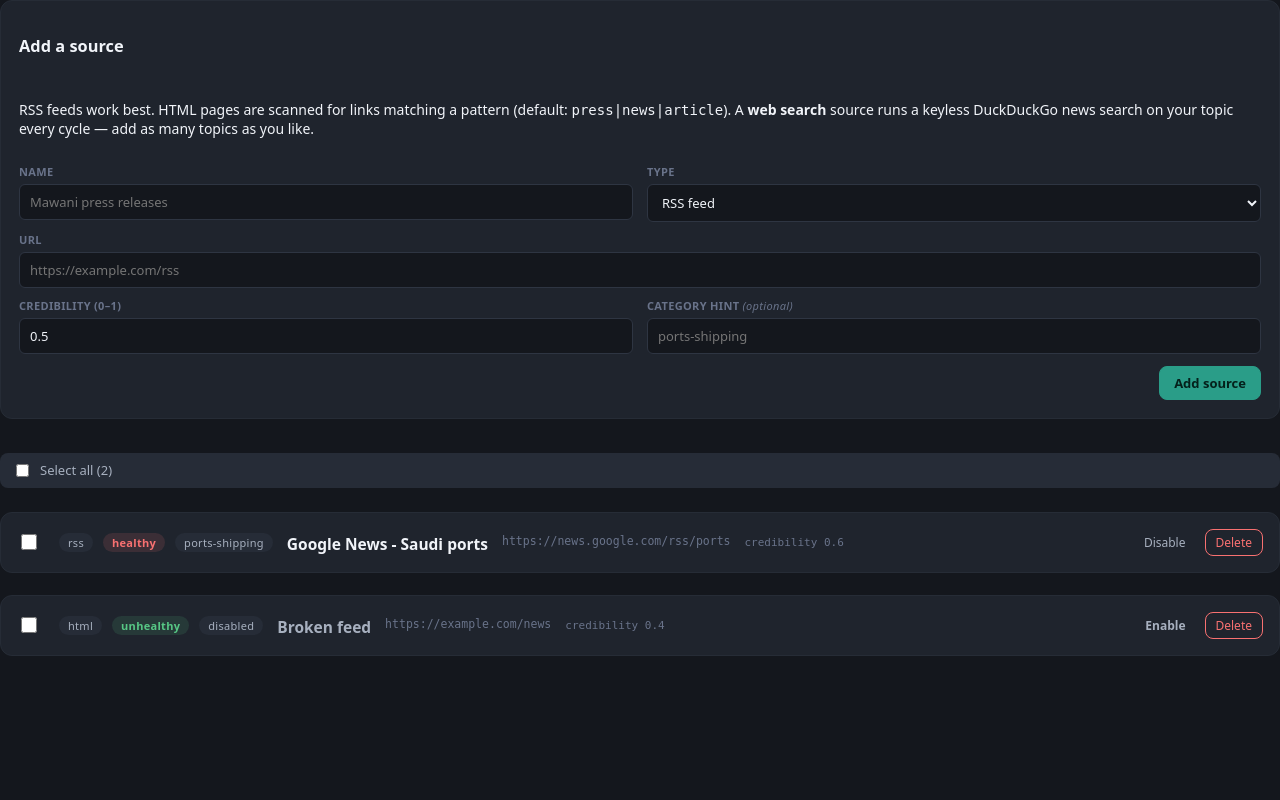
Scenario: adds a web-search source by topic
Check: the heading "Google News - Saudi ports" is shown, box x1=287 y1=534 x2=488 y2=554
Select "Web search (topic)" in the dropdown labelled "Type" at coordinates (954, 203), box x1=647 y1=184 x2=1261 y2=222
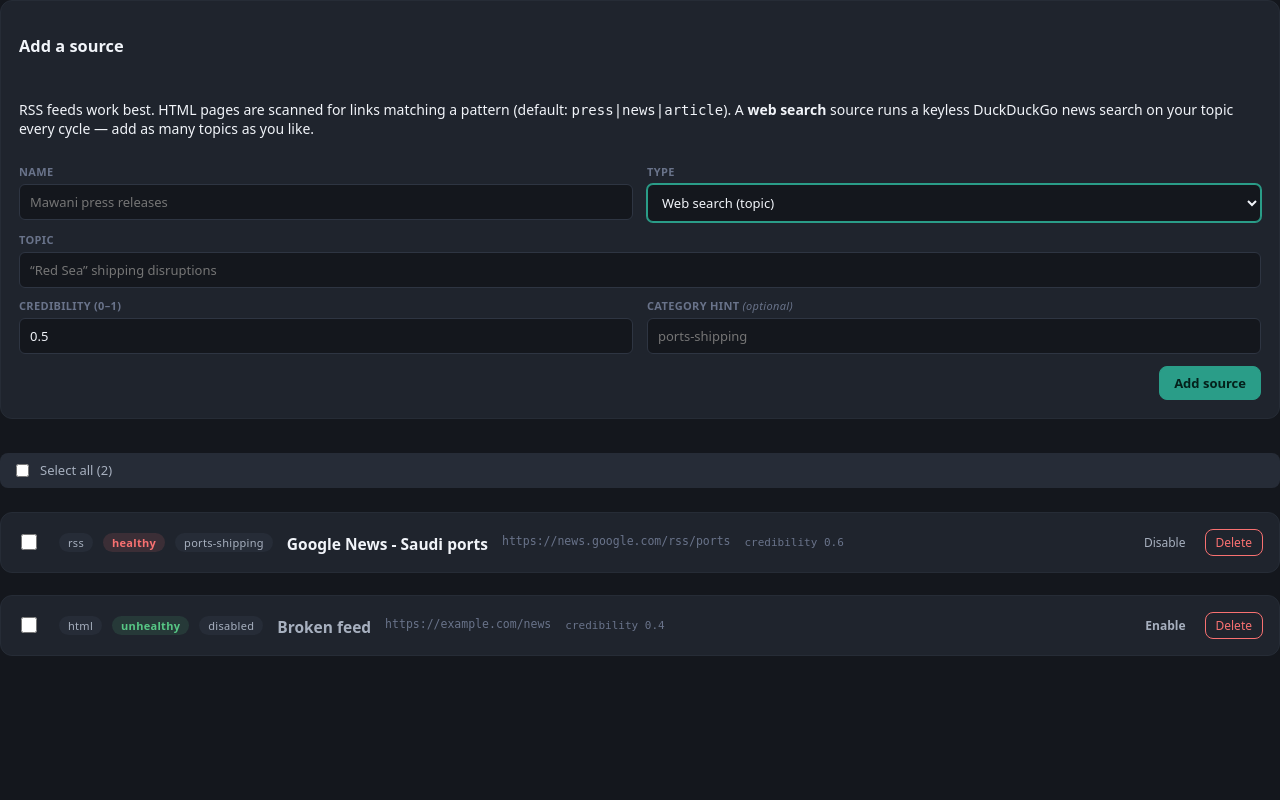
Type "Red Sea watch" into the field labelled "Name" at coordinates (326, 202), box x1=19 y1=184 x2=633 y2=220
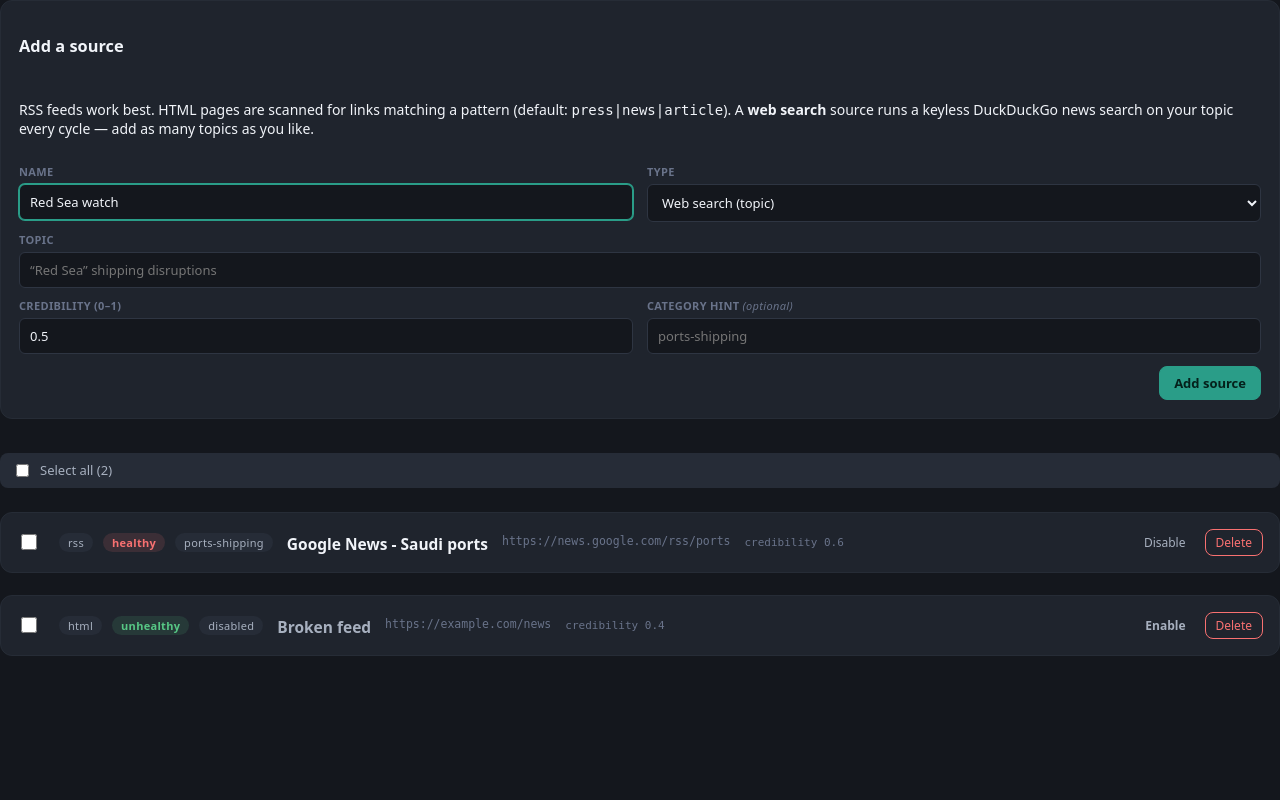
Type "Red Sea shipping attacks" into the field labelled "Topic" at coordinates (640, 270), box x1=19 y1=252 x2=1261 y2=288
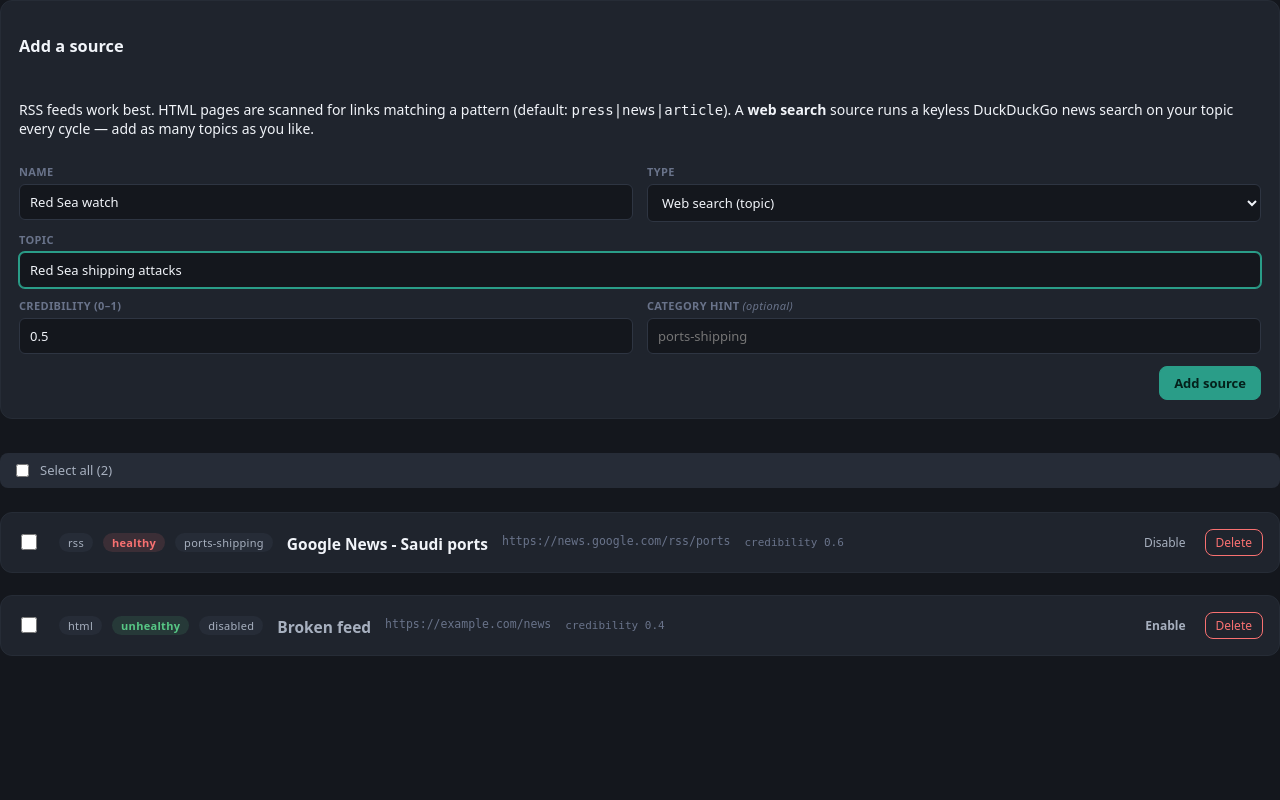
Click the button "Add source" at coordinates (1210, 383), box x1=1159 y1=366 x2=1261 y2=400
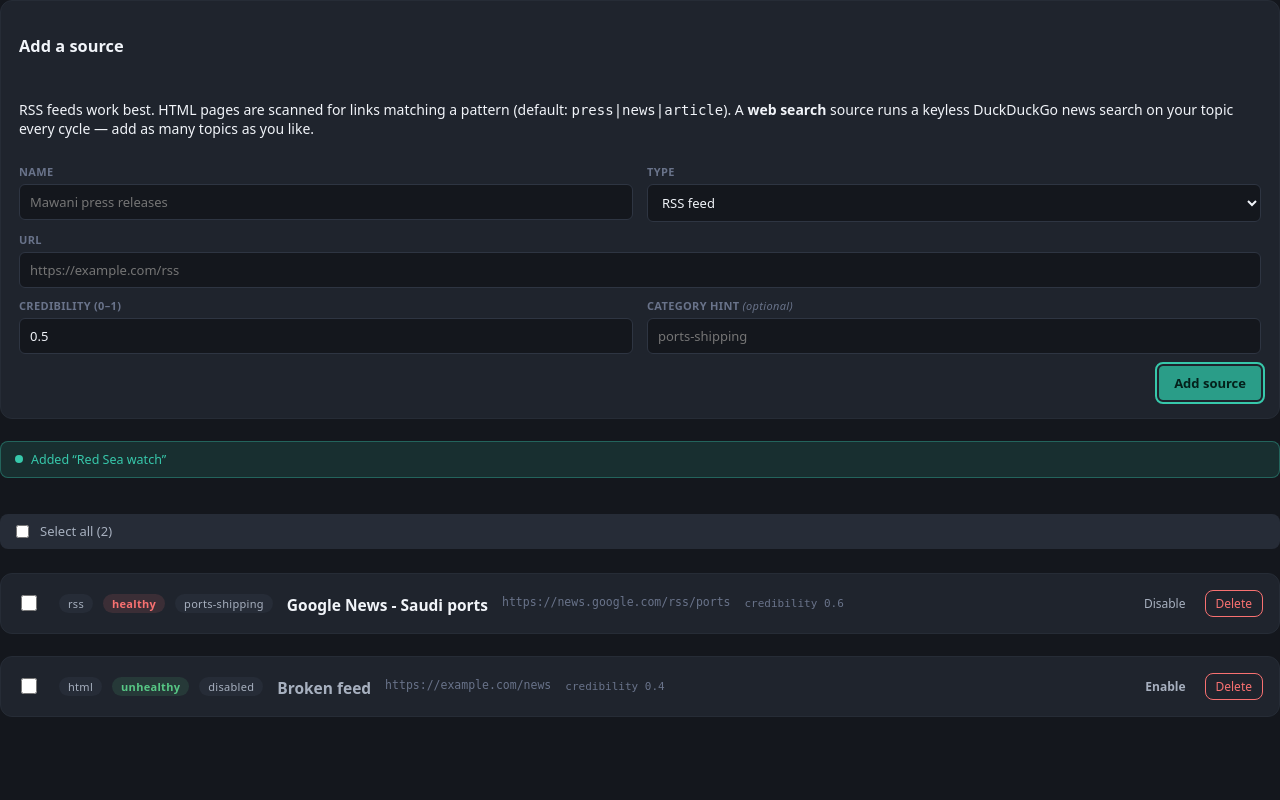
Check: the text "Added “Red Sea watch”" is shown, box x1=0 y1=441 x2=1279 y2=478
